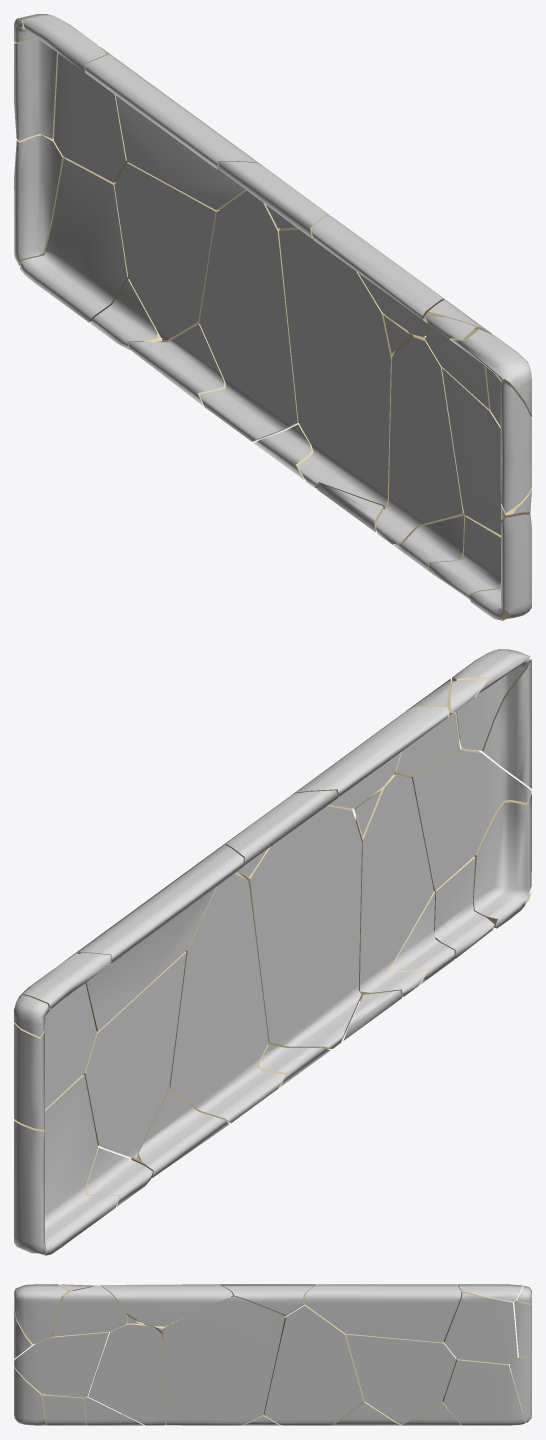
Rendered from BreakingGlass.fbx.
3 renders of one model, top to bottom at view 1: azimuth 30°, elevation 25°; view 2: azimuth 150°, elevation 25°; view 3: azimuth 270°, elevation 25°, orthographic. The views are drawn at different scales.
Visible parts, largest first — view 1: Broken_cell; view 2: Broken_cell; view 3: Broken_cell.
Part boxes in pixels (bbox=[...]): Broken_cell: bbox=[14, 14, 531, 620]; Broken_cell: bbox=[14, 649, 531, 1255]; Broken_cell: bbox=[14, 1284, 531, 1425].
Size of the model in its own units: 0.0425 by 0.2838 by 0.9877.
